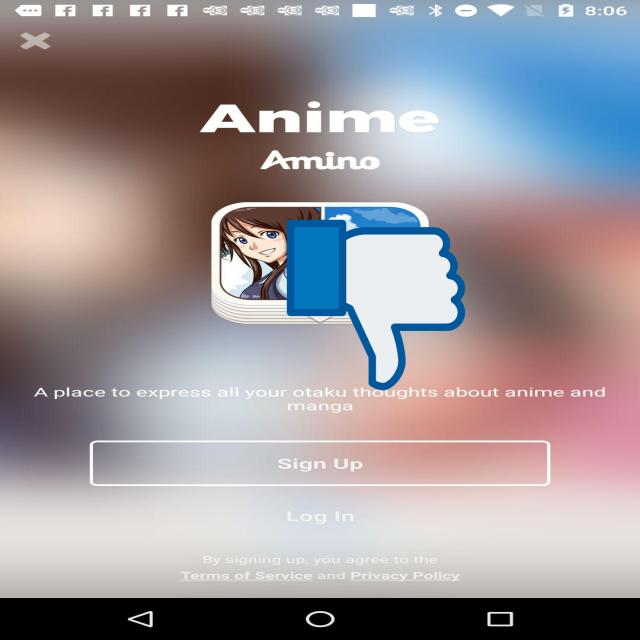obstruction: (287, 216, 465, 394)
